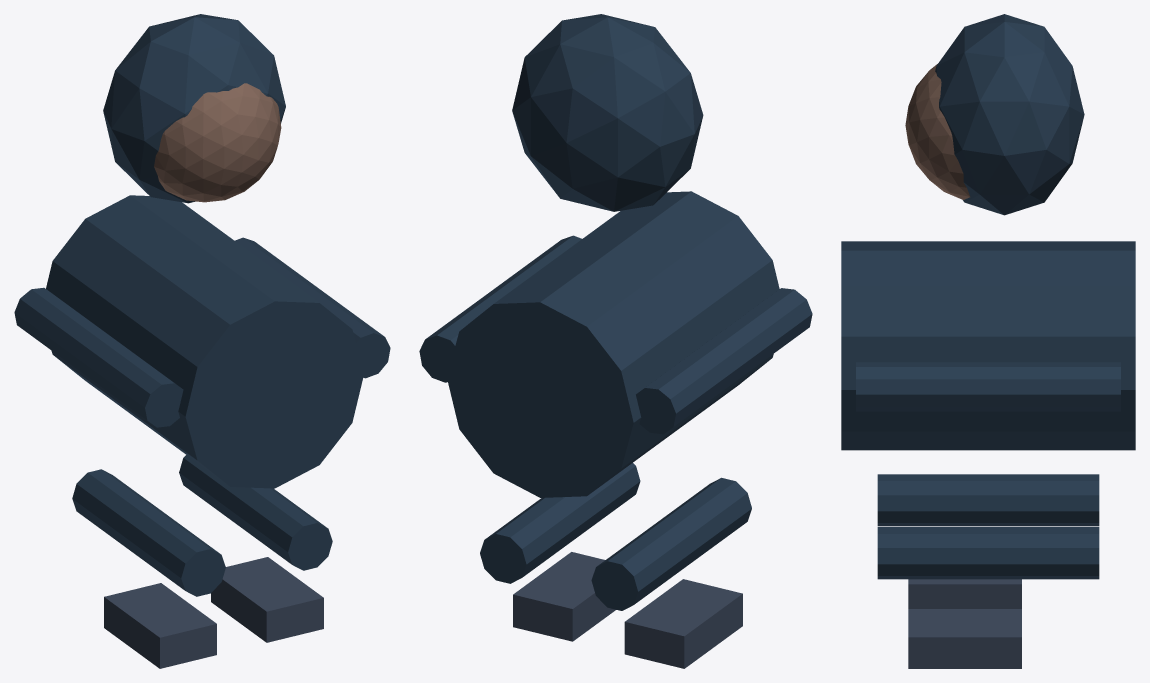
Rendered from founder.glb.
3 renders of one model, left to right at view 1: azimuth 30°, elevation 25°; view 2: azimuth 150°, elevation 25°; view 3: azimuth 270°, elevation 25°, orthographic. The views are drawn at different scales.
Parts seen in each view (by area): view 1: torso, hood, head, arm_0, leg_0, leg_1, shoe_0, shoe_1, arm_1; view 2: torso, hood, arm_0, leg_0, leg_1, shoe_0, shoe_1, arm_1; view 3: torso, hood, arm_1, leg_0, leg_1, shoe_1, head, shoe_0.
Boxes of the visible parts, box(x1,y1,x2,y2) form: torso: box(46, 195, 364, 488); hood: box(103, 14, 285, 203); head: box(154, 83, 281, 202); arm_0: box(14, 287, 183, 427); leg_0: box(72, 469, 225, 596); leg_1: box(179, 455, 332, 570); shoe_0: box(104, 583, 216, 668); shoe_1: box(211, 557, 323, 642); arm_1: box(235, 237, 390, 378); torso: box(446, 191, 779, 497); hood: box(512, 14, 703, 211); arm_0: box(636, 288, 812, 434); leg_0: box(591, 477, 751, 610); leg_1: box(480, 463, 640, 583); shoe_0: box(624, 579, 742, 668); shoe_1: box(513, 552, 615, 641); arm_1: box(419, 235, 581, 382); torso: box(841, 241, 1135, 450); hood: box(935, 14, 1084, 215); arm_1: box(856, 362, 1120, 411); leg_0: box(877, 474, 1099, 526); leg_1: box(877, 527, 1099, 579); shoe_1: box(908, 609, 1021, 668); head: box(905, 64, 970, 199); shoe_0: box(908, 579, 1021, 608).
Size of the model in its own units: 1.98 by 4.59 by 2.02.
